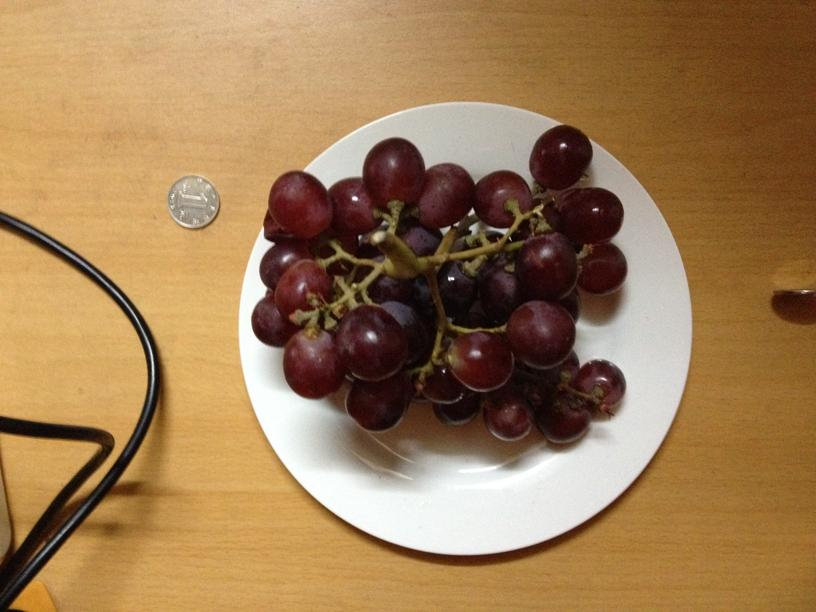coin: (165, 175, 222, 229)
grape: (241, 129, 637, 446)
